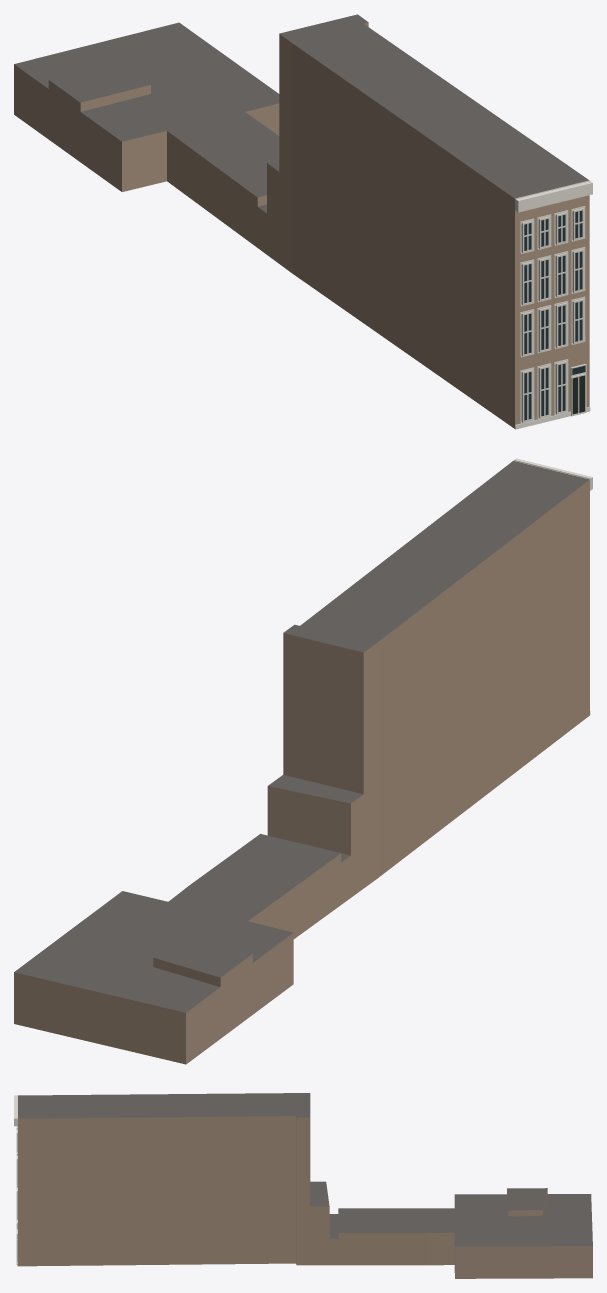
3 renders of one model, top to bottom at view 1: azimuth 30°, elevation 25°; view 2: azimuth 150°, elevation 25°; view 3: azimuth 270°, elevation 25°, orthographic. The views are drawn at different scales.
Visible parts, largest first — view 1: spec-0363100012176494; view 2: spec-0363100012176494; view 3: spec-0363100012176494.
Part boxes in pixels (<box>): spec-0363100012176494: <box>14,14,592,429</box>; spec-0363100012176494: <box>14,458,592,1064</box>; spec-0363100012176494: <box>14,1093,592,1278</box>.
Size of the model in its own units: 12.25 by 16.05 by 56.95.
